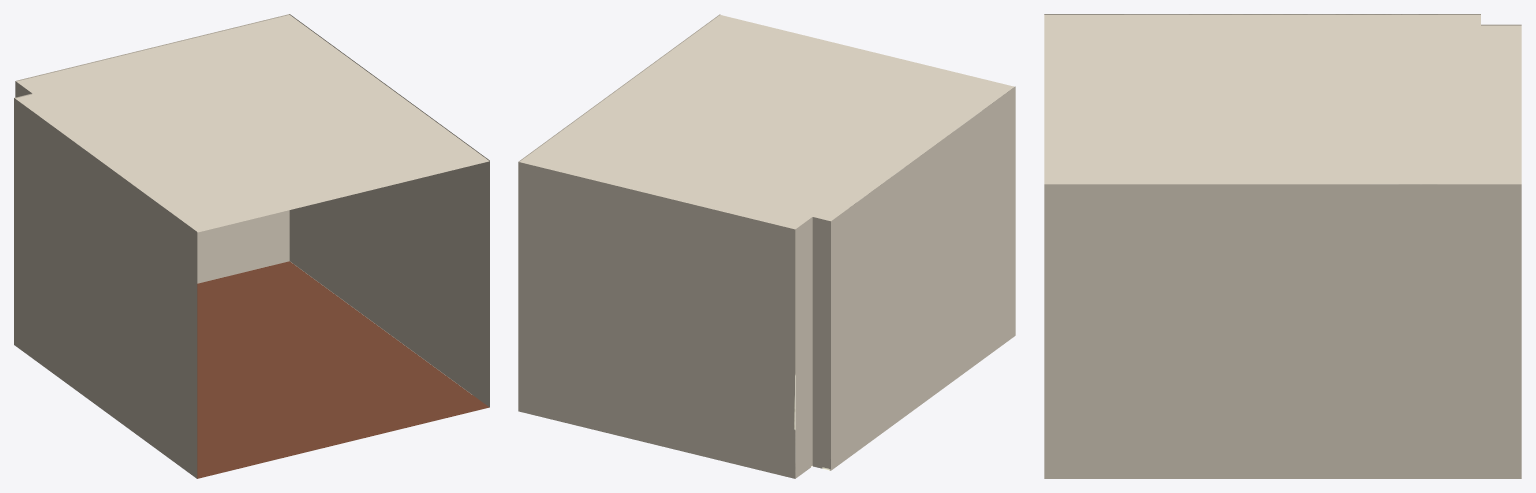
File: Cabin_Room.fbx
3 renders of one model, left to right at view 1: azimuth 30°, elevation 25°; view 2: azimuth 150°, elevation 25°; view 3: azimuth 270°, elevation 25°, orthographic. The views are drawn at different scales.
Visible parts, largest first — view 1: room; view 2: room; view 3: room.
Boxes of the visible parts, left/top/right/bottom form: room: left=14, top=14, right=489, bottom=478; room: left=518, top=14, right=1015, bottom=478; room: left=1044, top=14, right=1521, bottom=478.
Bounding box in the file's own units: 340 × 274 × 402.
Materials: 1 (1 with a texture image).
